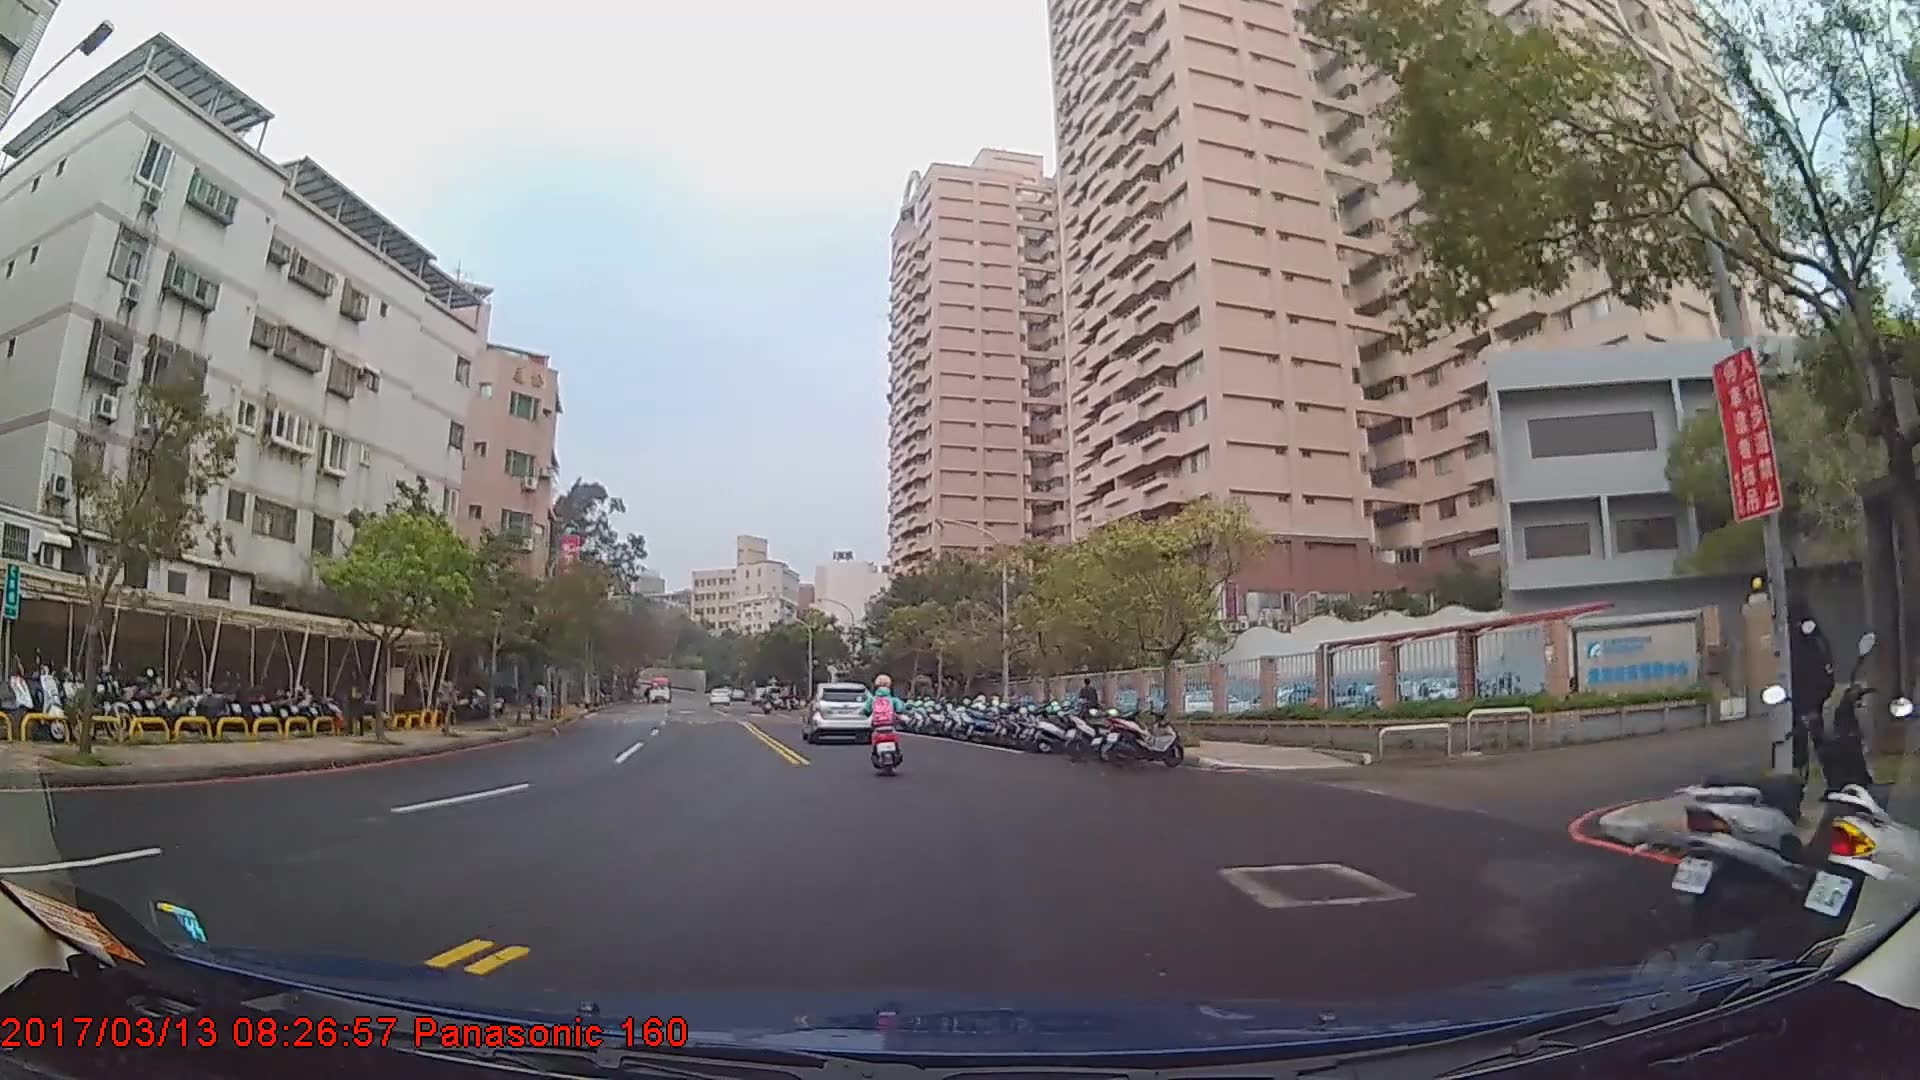pedestrian: (1760, 588, 1838, 817), (343, 663, 370, 738), (1080, 678, 1100, 735)
rider: (862, 672, 905, 768)
vehicle: (802, 681, 878, 745), (643, 673, 671, 703)
